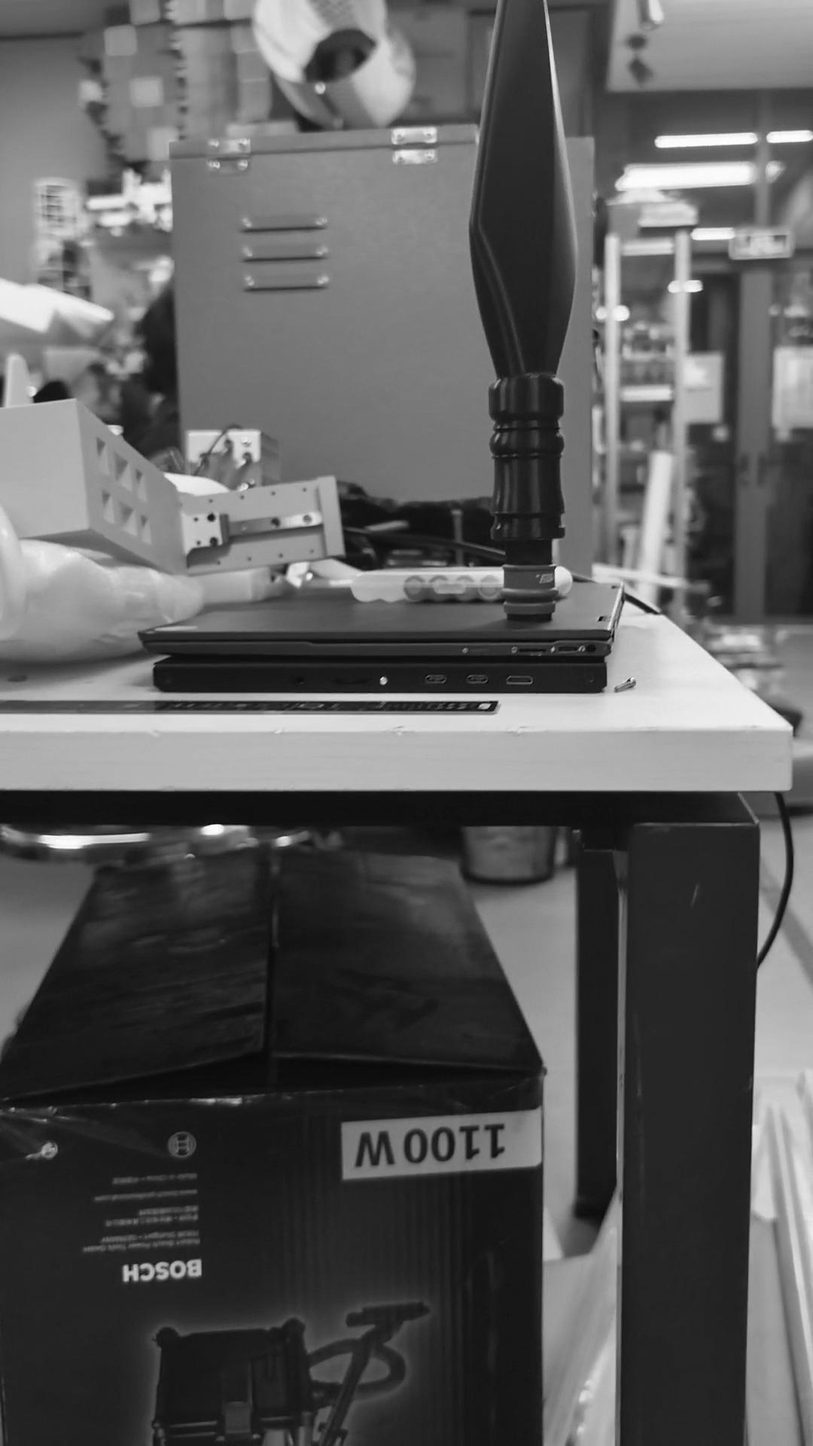base: (492, 555, 571, 635)
